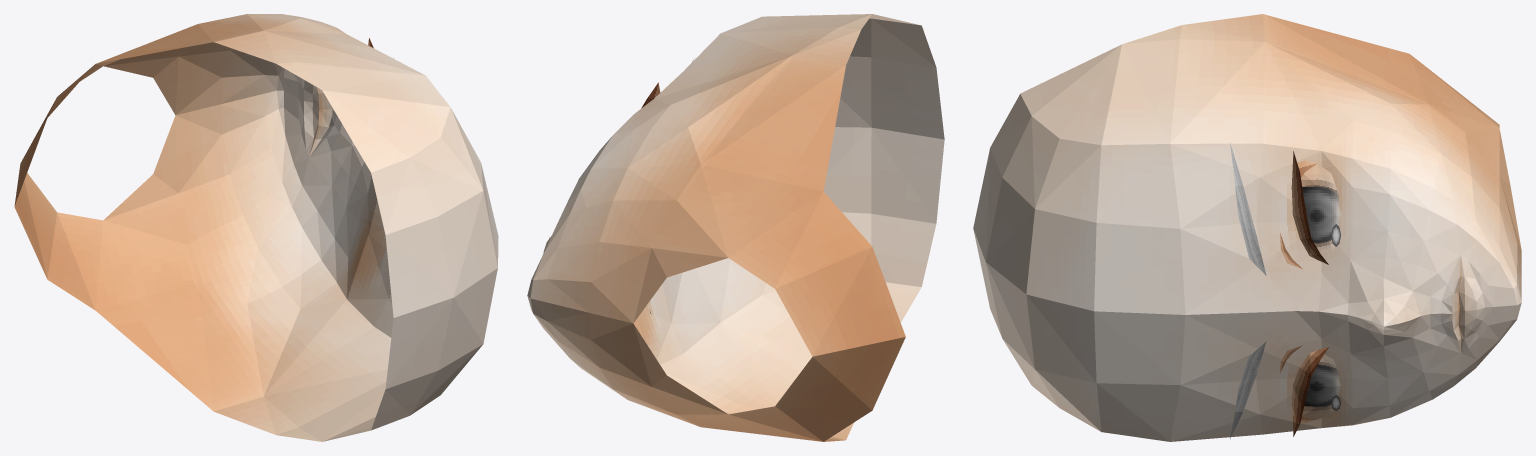
File: Npc_60035.obj
3 renders of one model, left to right at view 1: azimuth 30°, elevation 25°; view 2: azimuth 150°, elevation 25°; view 3: azimuth 270°, elevation 25°, orthographic. The views are drawn at different scales.
Parts seen in each view (by area): view 1: Npc_60035; view 2: Npc_60035; view 3: Npc_60035.
Part boxes in pixels (x1,y1,x2,y2): Npc_60035: [14, 14, 498, 441]; Npc_60035: [527, 14, 944, 441]; Npc_60035: [973, 14, 1521, 441].
Size of the model in its own units: 0.3553 by 0.347 by 0.4442.
1 material, 1 textured.
